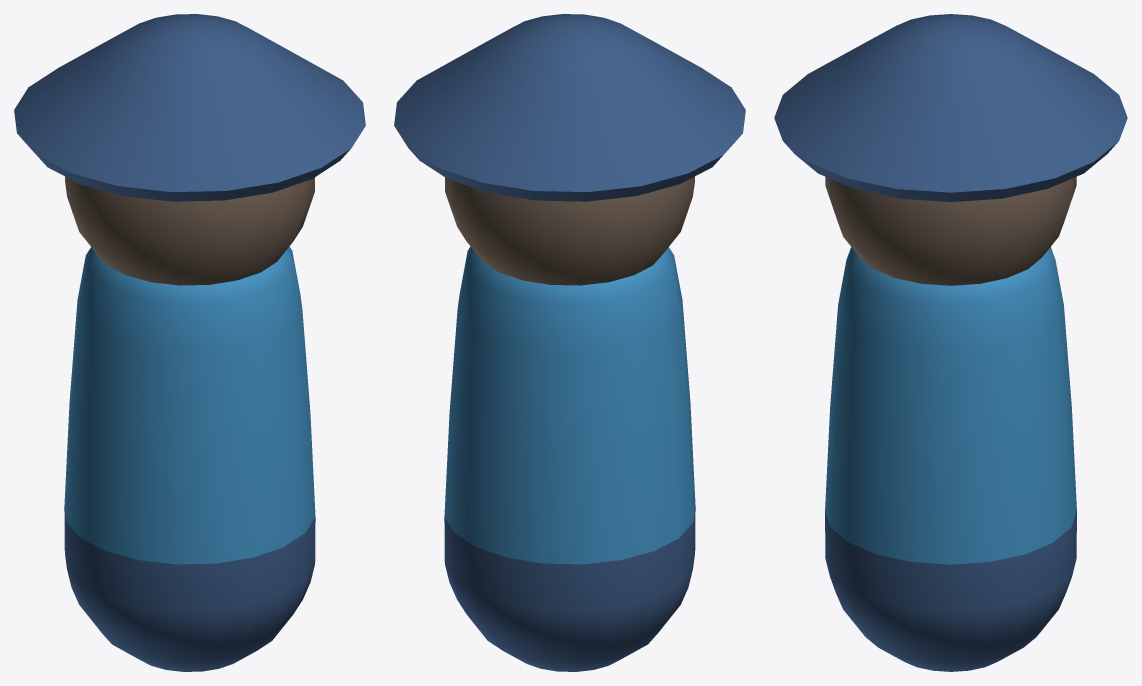
File: mavi1.fbx
The picture shows the model from 3 angles, left to right: view 1: azimuth 30°, elevation 25°; view 2: azimuth 150°, elevation 25°; view 3: azimuth 270°, elevation 25°; orthographic projection.
Visible parts, largest first — view 1: mavi1; view 2: mavi1; view 3: mavi1.
Boxes of the visible parts, <box> form: mavi1: <box>14,14,365,671</box>; mavi1: <box>394,14,745,671</box>; mavi1: <box>774,14,1127,671</box>.
Size of the model in its own units: 2.61 by 5.17 by 2.61.
